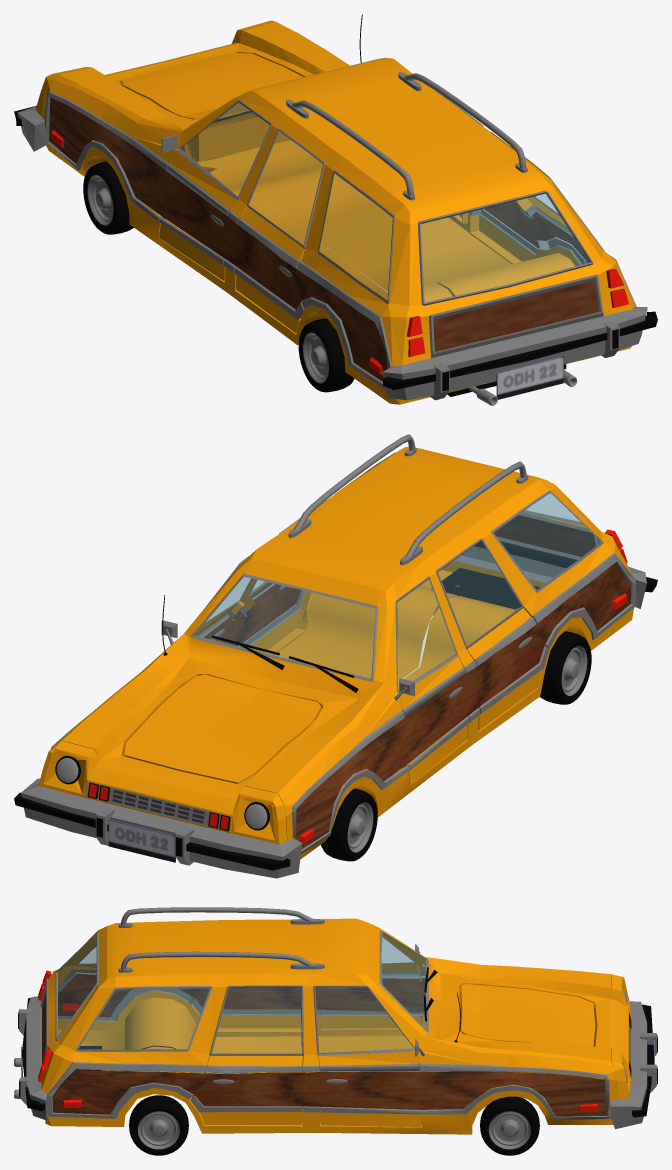
File: car1.fbx
3 renders of one model, top to bottom at view 1: azimuth 30°, elevation 25°; view 2: azimuth 150°, elevation 25°; view 3: azimuth 270°, elevation 25°, orthographic. The views are drawn at different scales.
Visible parts, largest first — view 1: Box001, Cylinder008, Cylinder007; view 2: Box001, Cylinder008, Cylinder007; view 3: Box001, Cylinder005, Cylinder006.
Boxes of the visible parts, left/top/right/bottom form: Box001: left=14, top=14, right=657, bottom=405; Cylinder008: left=298, top=318, right=354, bottom=392; Cylinder007: left=83, top=161, right=133, bottom=234; Box001: left=14, top=434, right=657, bottom=878; Cylinder008: left=540, top=631, right=591, bottom=704; Cylinder007: left=321, top=788, right=377, bottom=861; Box001: left=14, top=907, right=657, bottom=1134; Cylinder005: left=129, top=1095, right=188, bottom=1155; Cylinder006: left=480, top=1096, right=539, bottom=1155.
Bounding box in the file's own units: 2.52 × 1.89 × 6.28.
